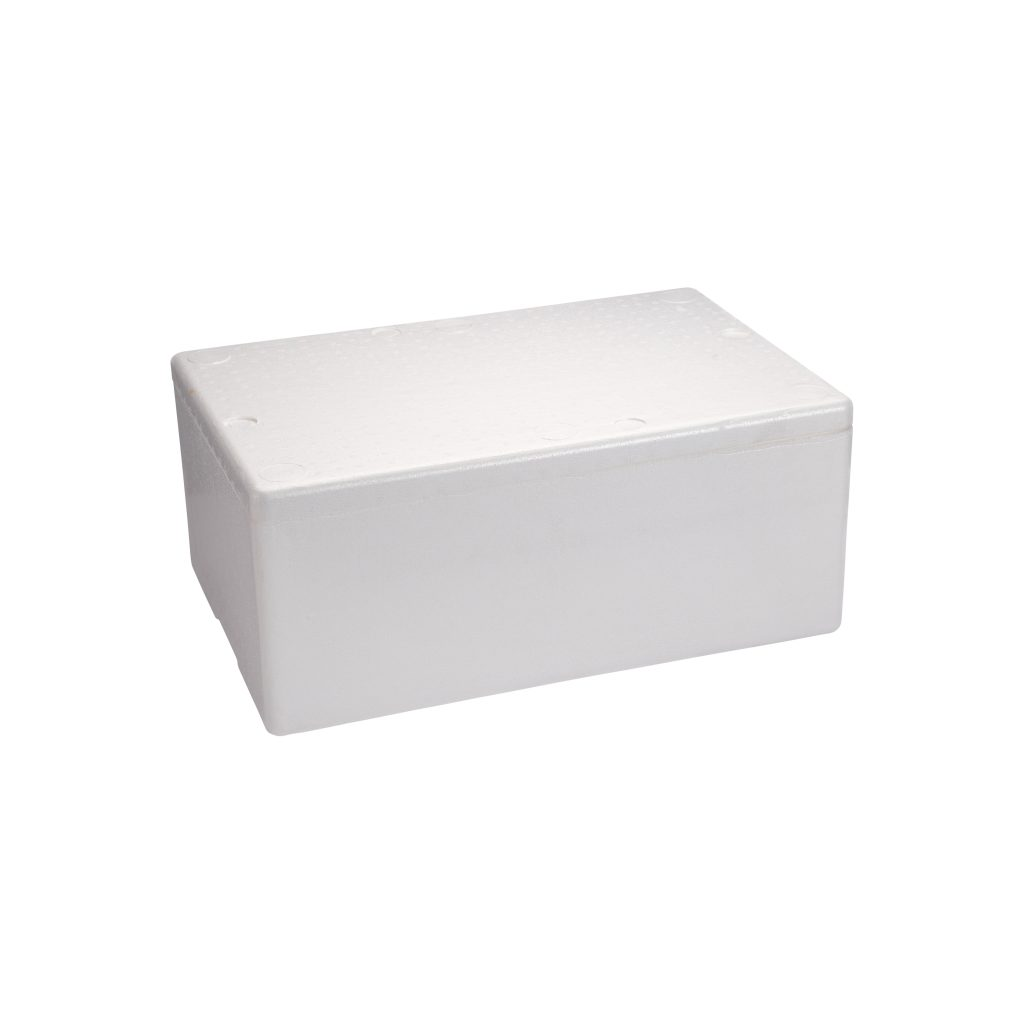泡沫箱: (171, 290, 852, 734)
